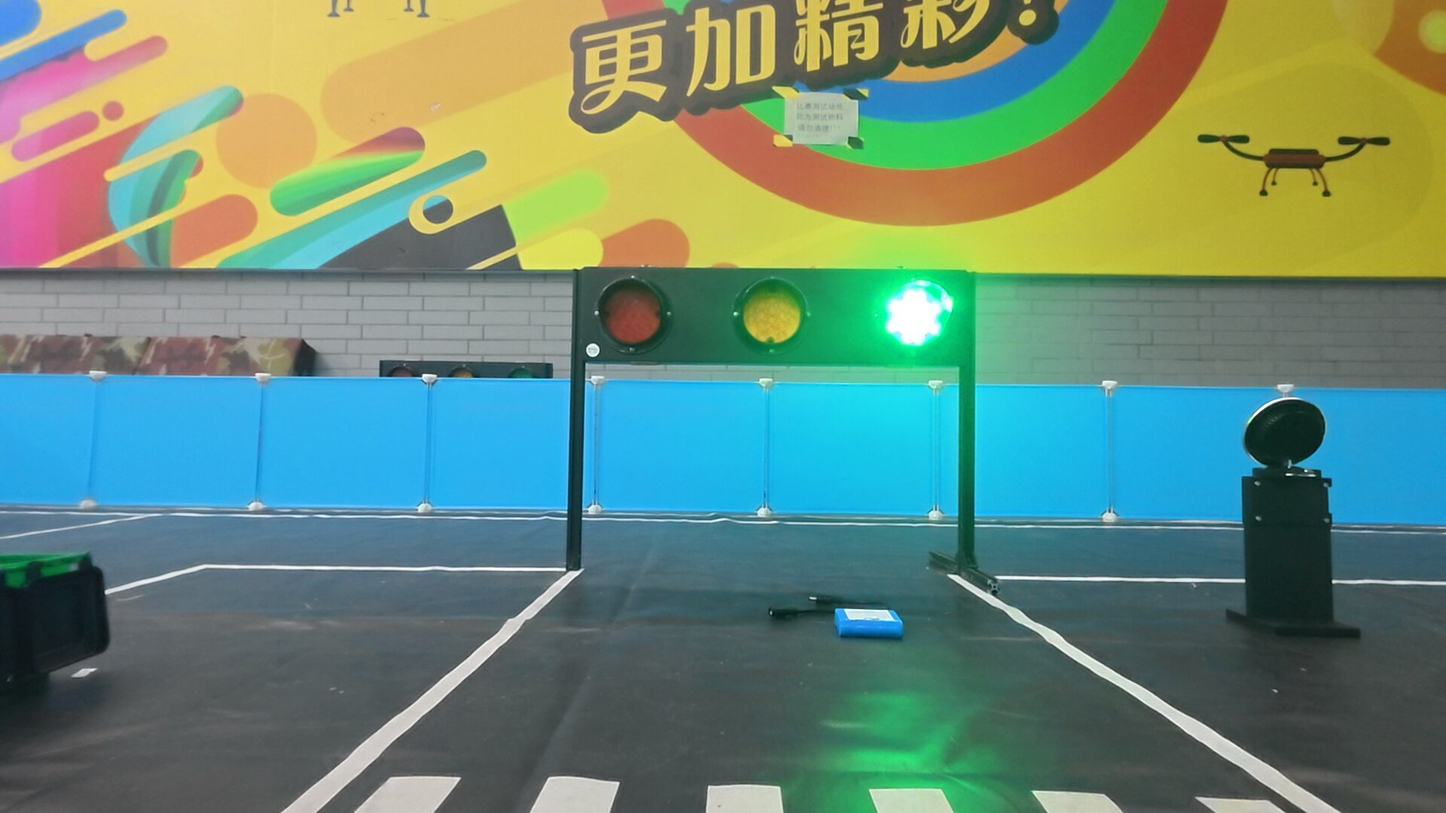go: (879, 276, 957, 356)
